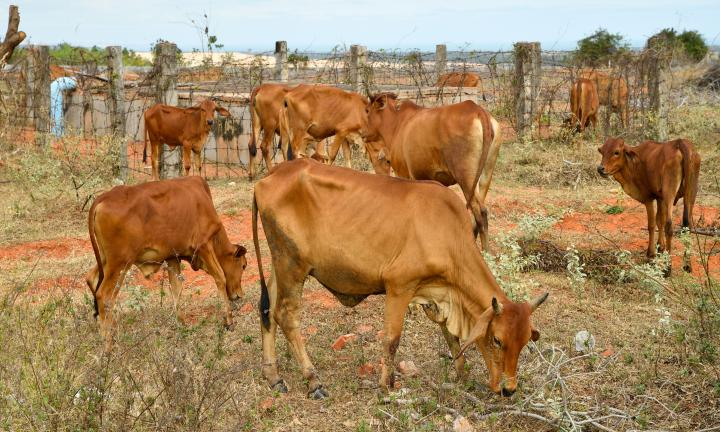Brahman: (253, 158, 548, 398), (87, 176, 247, 347), (363, 94, 501, 249), (597, 138, 701, 257), (280, 84, 389, 175), (143, 100, 230, 180), (250, 84, 294, 178)
